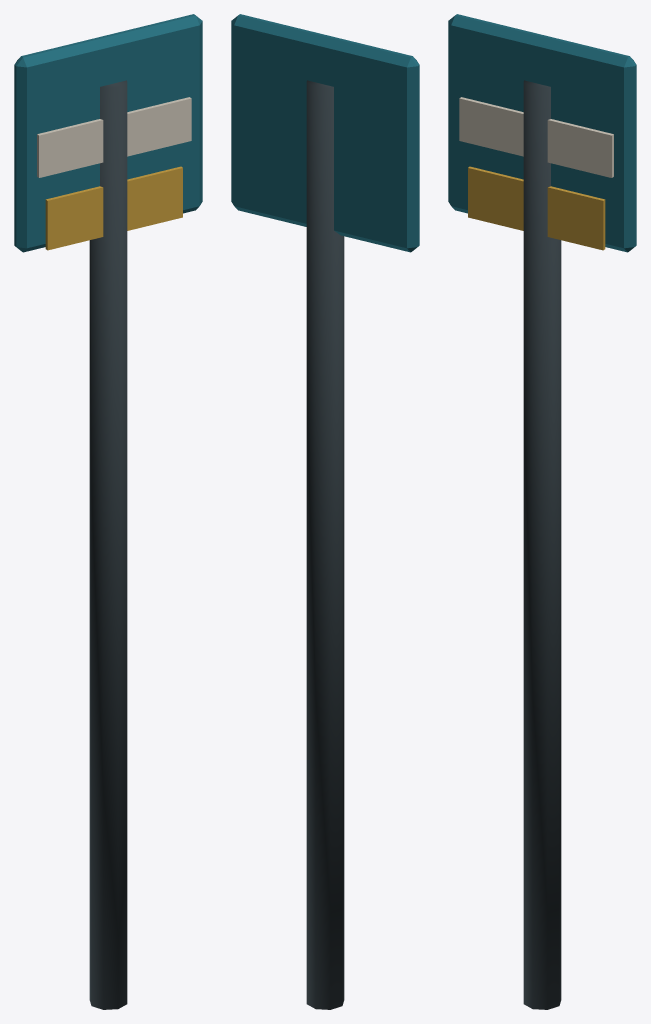
Rendered from bus_stop.glb.
3 renders of one model, left to right at view 1: azimuth 30°, elevation 25°; view 2: azimuth 150°, elevation 25°; view 3: azimuth 330°, elevation 25°, orthographic.
Parts seen in each view (by area): view 1: bus_stop; view 2: bus_stop; view 3: bus_stop.
Part boxes in pixels (left/top/right/bottom): bus_stop: left=14, top=14, right=202, bottom=1009; bus_stop: left=231, top=14, right=419, bottom=1009; bus_stop: left=448, top=14, right=636, bottom=1009.
Bounding box in the file's own units: 0.5499 × 2.73 × 0.1001.
